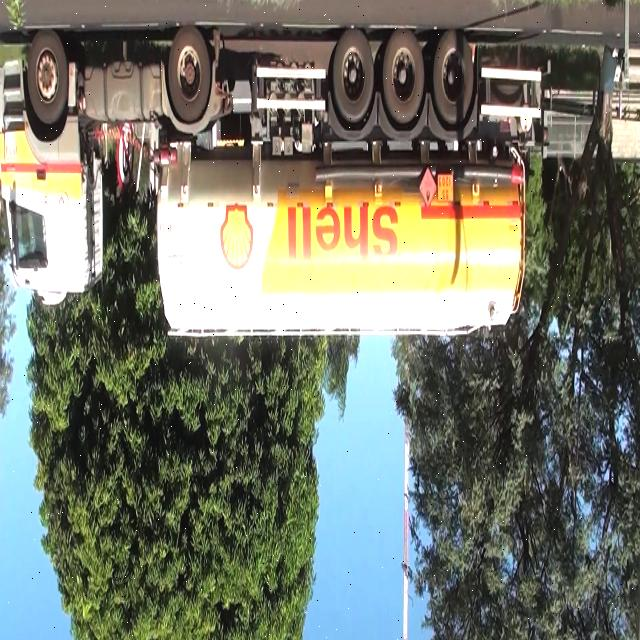-axle: (380, 28, 426, 122), (168, 23, 210, 125), (332, 30, 376, 120), (432, 30, 472, 121), (28, 33, 68, 123)
